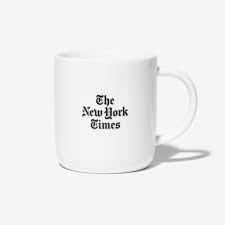mug: (48, 48, 202, 179)
